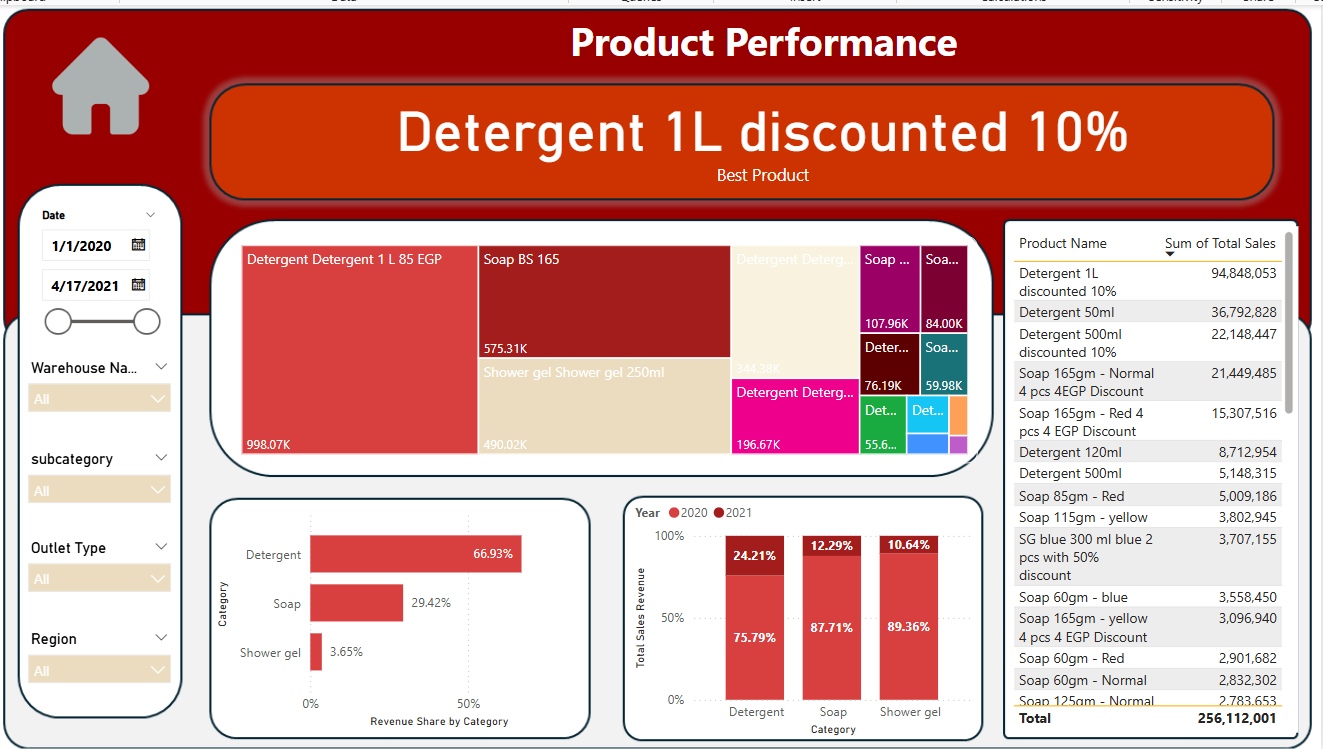

The page's visual inventory and layout, read from the dashboard file:
{"tool":"powerbi","page":{"name":"Product Performance","canvas":[1280,720],"ordinal":2},"visuals":[{"type":"image","box":[7.2,26.5,189.4,103.8],"z":0},{"type":"textbox","box":[535.7,4.8,412.6,73.6],"z":2000},{"type":"clusteredBarChart","fields":{"Y":["_Measures.Revenue Share by Category"],"Category":["Products.Category"]},"box":[208.7,480.2,361.9,222],"z":3000},{"type":"hundredPercentStackedColumnChart","title":"Sales By Category over Years","fields":{"Y":["_Measures.Total Sales Revenue"],"Category":["Products.Category"],"Series":["Calender.Year"]},"box":[612.9,470.5,335.4,240.1],"z":4000},{"type":"treemap","fields":{"Values":["_Measures.Top Selling"],"Group":["Products.Category Hierarchy.Category","Products.Category Hierarchy.subcategory"]},"box":[229.2,223.2,719,219.6],"z":5000},{"type":"tableEx","fields":{"Values":["Products.Product Name","Sum(Sales.Total Sales)"]},"box":[977.2,213.5,281.1,488.6],"z":6000},{"type":"card","fields":{"Values":["Min(Sales.Product Name)"]},"box":[343.8,73.6,795,103.8],"z":7000},{"type":"slicer","fields":{"Values":["Calender.Date"]},"box":[32.6,191.8,135.1,136.3],"z":9000},{"type":"slicer","fields":{"Values":["Warehouses.Warehouse Name"]},"box":[21.7,336.6,158,72.4],"z":10000},{"type":"slicer","fields":{"Values":["Products.subcategory"]},"box":[21.7,424.7,158,71.2],"z":11000},{"type":"slicer","fields":{"Values":["Outlets.Outlet Type"]},"box":[21.7,510.3,158,71.2],"z":12000},{"type":"slicer","fields":{"Values":["Warehouses.Region"]},"box":[21.7,598.4,158,72.4],"z":13000}]}

Visuals, with their boxes on the page's 1280x720 design canvas (x1, y1, x2, y2). These are canvas units, not pixel positions in the 1323x749 screenshot, which may show the page scaled, cropped or inside an application window:
image: [left=7, top=26, right=197, bottom=130]
textbox: [left=536, top=5, right=948, bottom=78]
clusteredBarChart - _Measures.Revenue Share by Category x Products.Category: [left=209, top=480, right=571, bottom=702]
"Sales By Category over Years" hundredPercentStackedColumnChart: [left=613, top=470, right=948, bottom=711]
treemap - _Measures.Top Selling x Products.Category Hierarchy.Category: [left=229, top=223, right=948, bottom=443]
tableEx - Products.Product Name x Sum(Sales.Total Sales): [left=977, top=214, right=1258, bottom=702]
card - Min(Sales.Product Name): [left=344, top=74, right=1139, bottom=177]
slicer - Calender.Date: [left=33, top=192, right=168, bottom=328]
slicer - Warehouses.Warehouse Name: [left=22, top=337, right=180, bottom=409]
slicer - Products.subcategory: [left=22, top=425, right=180, bottom=496]
slicer - Outlets.Outlet Type: [left=22, top=510, right=180, bottom=582]
slicer - Warehouses.Region: [left=22, top=598, right=180, bottom=671]
